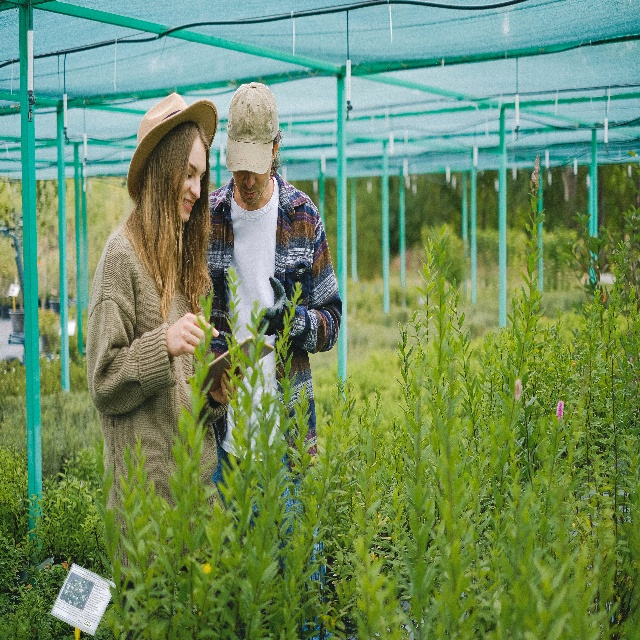Guantes: (255, 273, 291, 340)
Sin_guantes: (165, 311, 220, 357), (211, 359, 245, 406)
